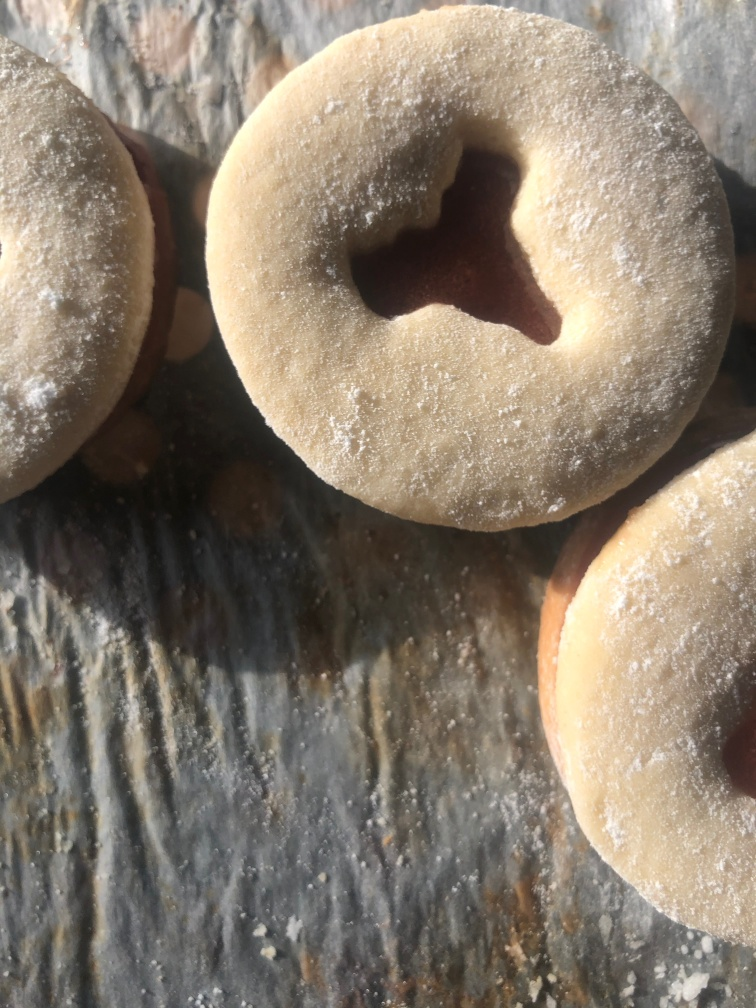christmas shortbread with jam: (201, 5, 738, 531), (556, 435, 756, 945)
